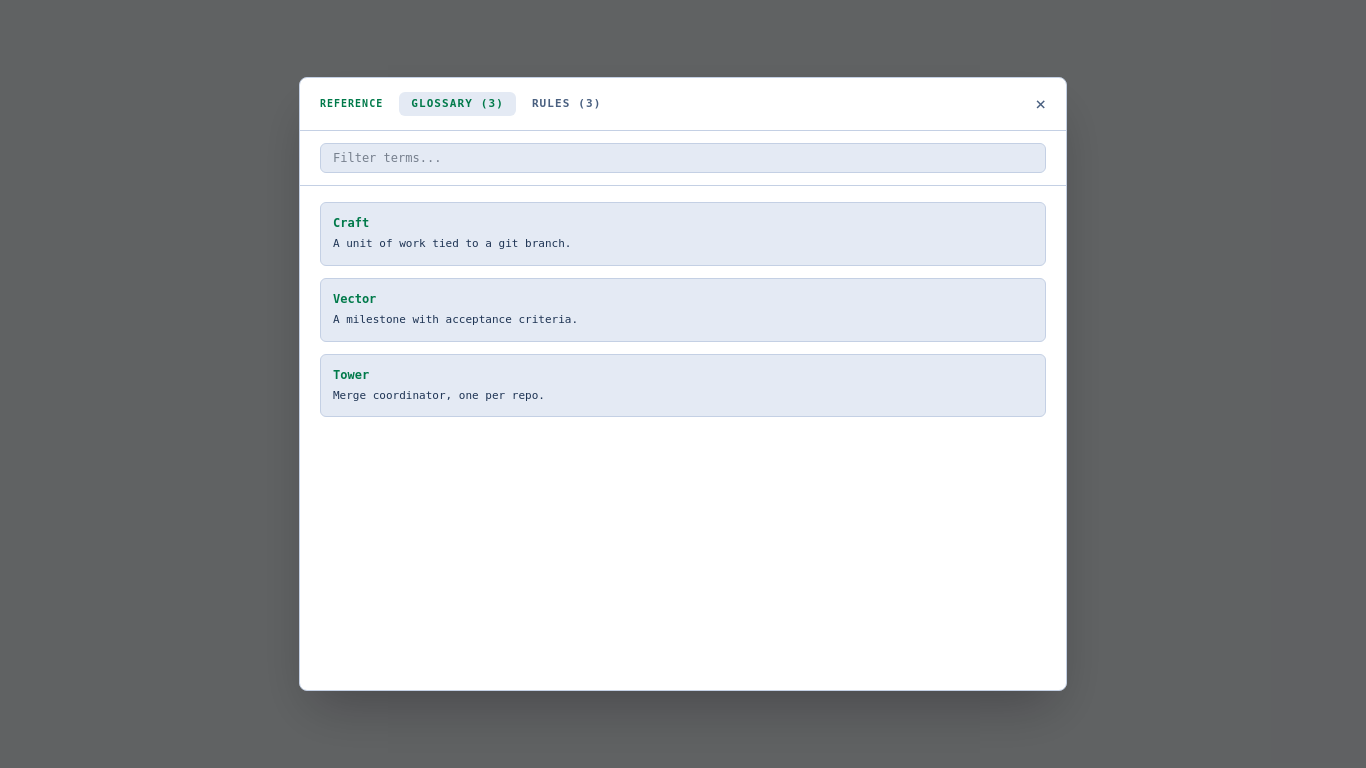
Test: GlossaryModal › switches to the rules tab and groups by prefix
Click the button "Rules (3)": (567, 104) [520,92,613,116]
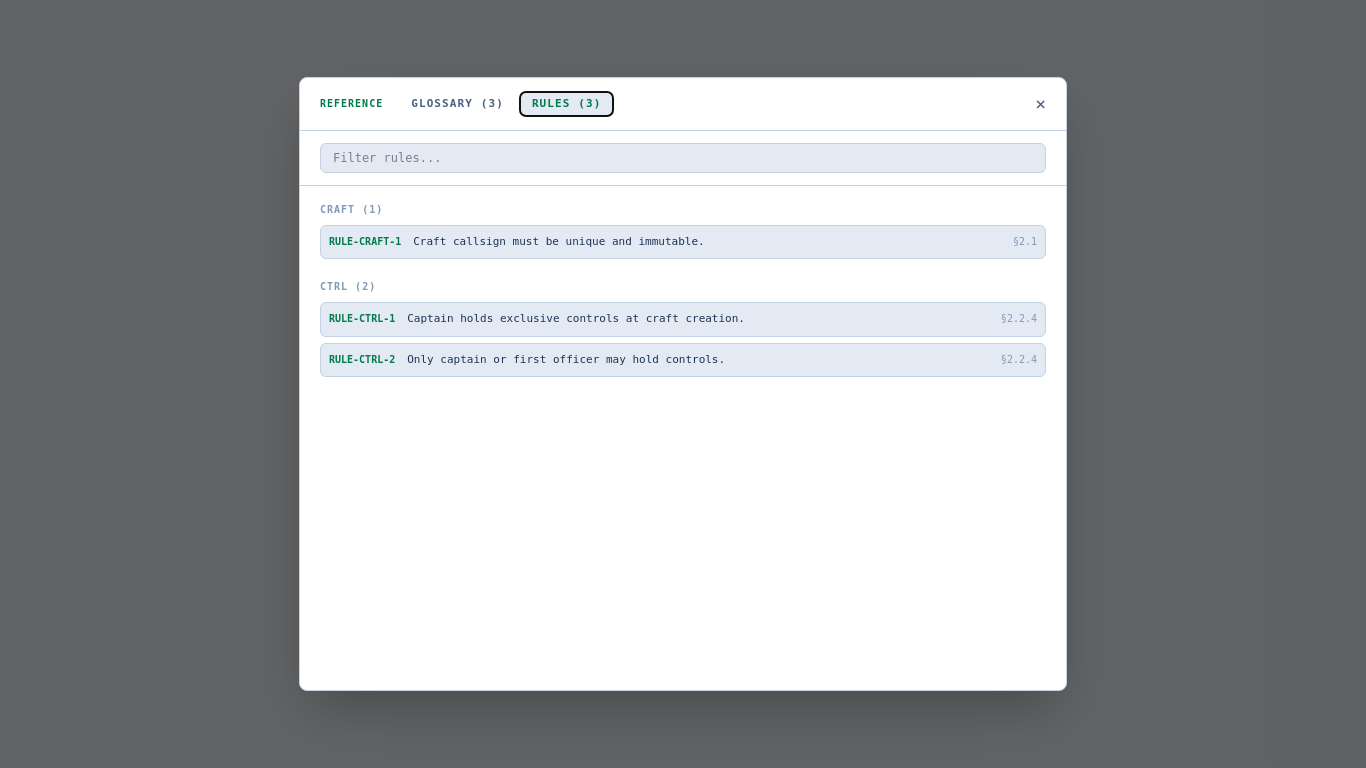
expect the text "RULE-CTRL-1" is shown: met, box [329,311,395,328]
expect the heading "CTRL (2)" is shown: met, box [320,281,376,292]
